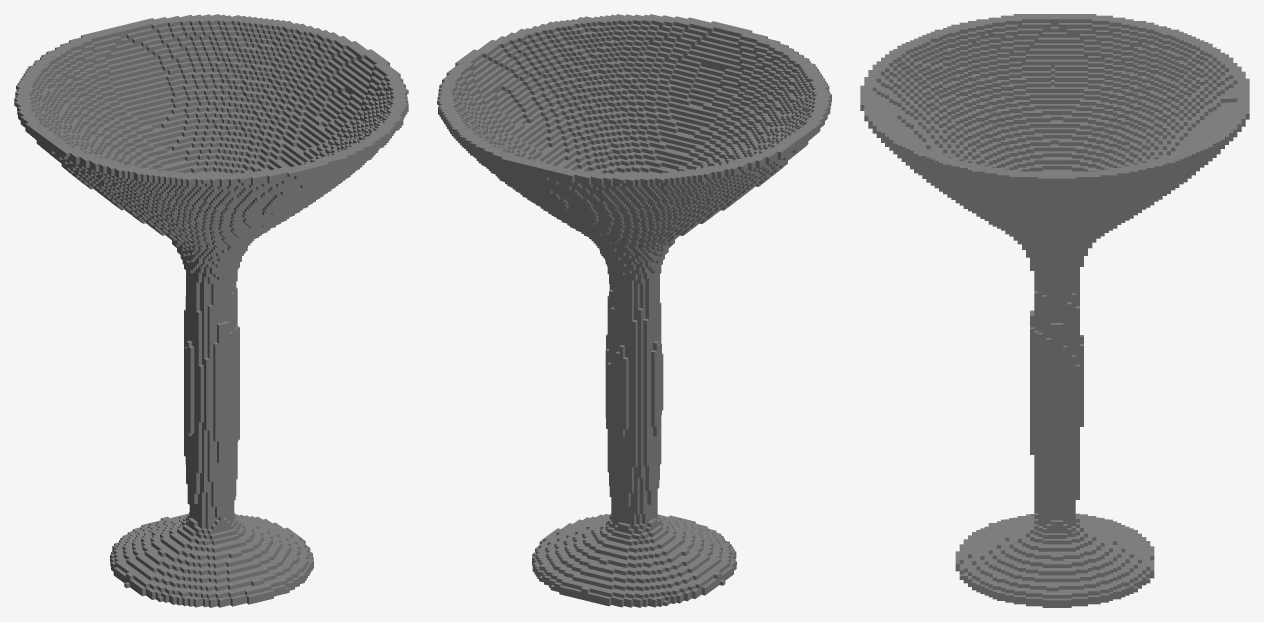
The model's file is rumka.obj.
3 renders of one model, left to right at view 1: azimuth 30°, elevation 25°; view 2: azimuth 150°, elevation 25°; view 3: azimuth 270°, elevation 25°, orthographic.
Bounding box in the file's own units: 94 × 125 × 94.
1 material, 1 textured.
